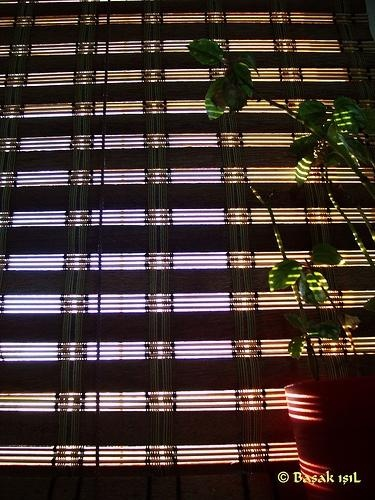pottedplant: (184, 28, 375, 499)
